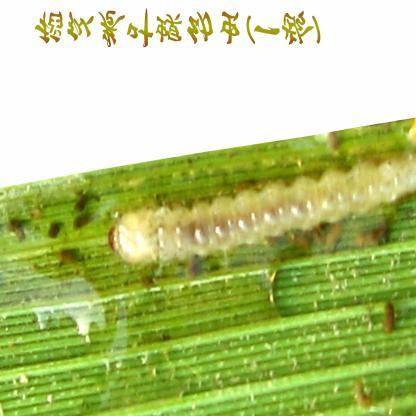leaf-folder: (108, 130, 416, 288)
